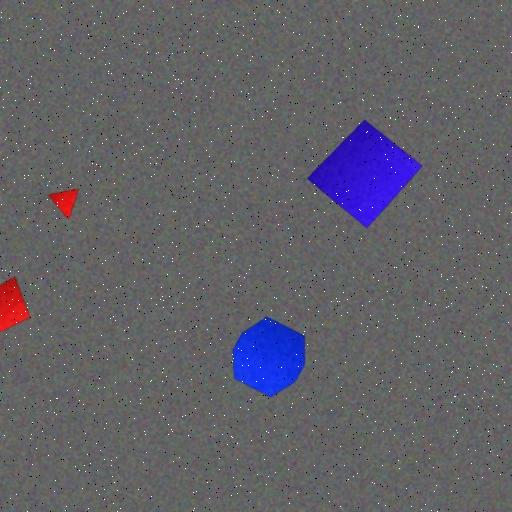BLUE_SQUARE: (306, 119, 423, 230)
RED_SQUARE: (0, 276, 31, 337)
